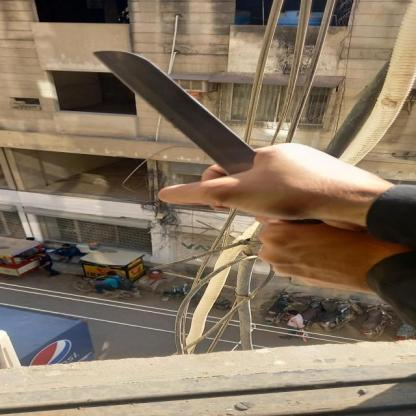Knife: (78, 49, 324, 231)
